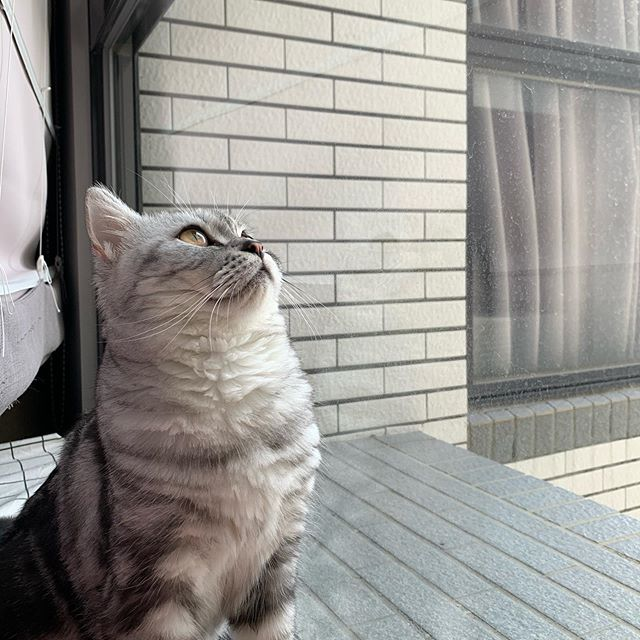cat: (88, 188, 288, 368)
